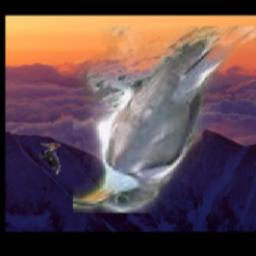Cuckoo: (73, 27, 256, 214)
Woodpecker: (40, 143, 60, 174)
